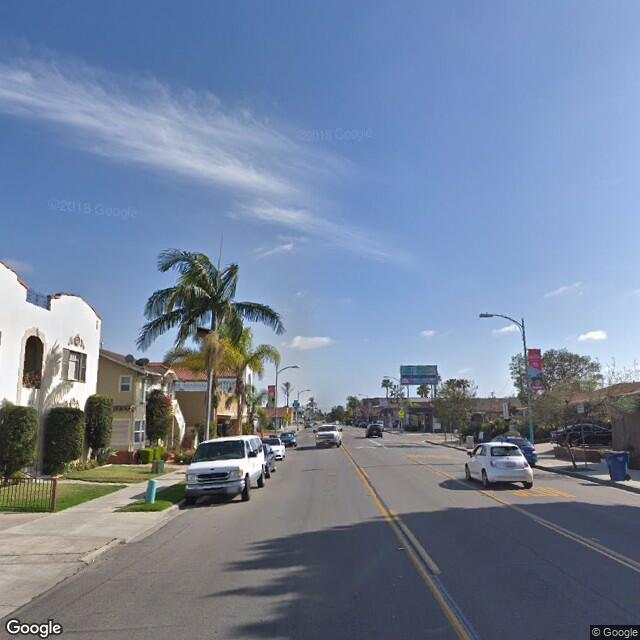light: (478, 310, 496, 321)
road line: (419, 529, 474, 615), (548, 517, 608, 555), (363, 479, 394, 526)
window: (61, 344, 90, 385)
